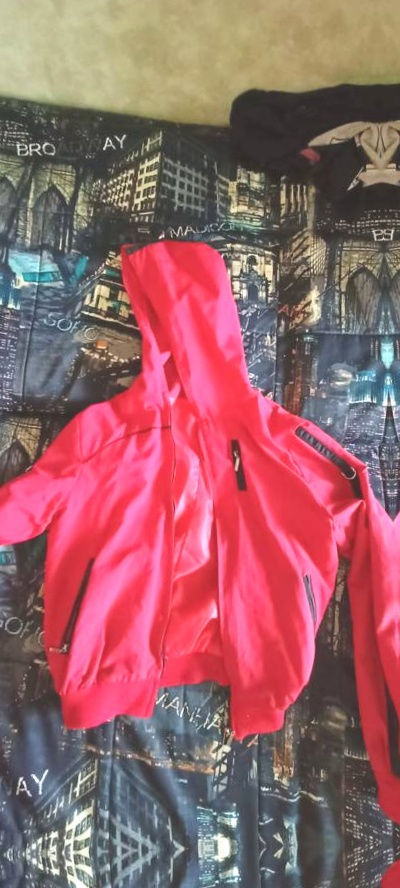Hoodie: (0, 186, 400, 819), (382, 172, 400, 805), (0, 879, 400, 888)
